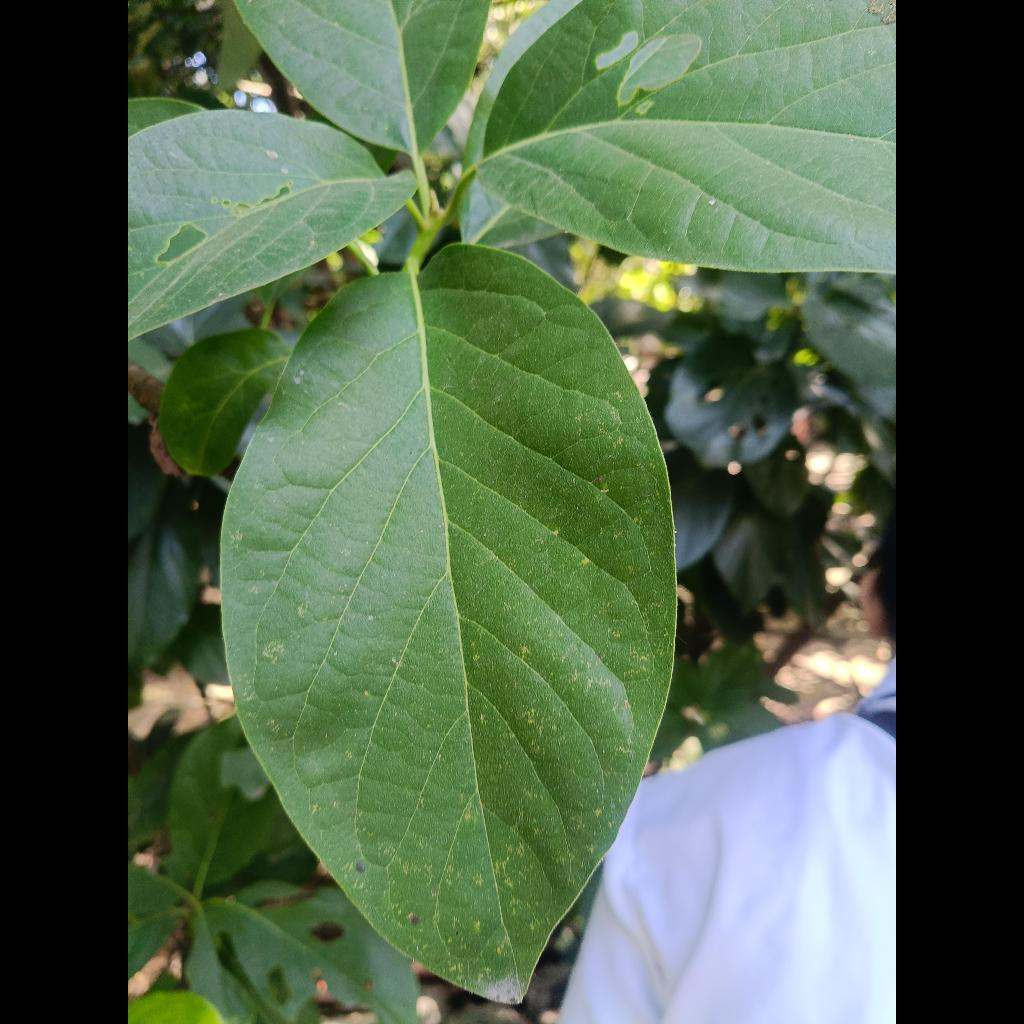Healthy: (222, 245, 676, 1001)
